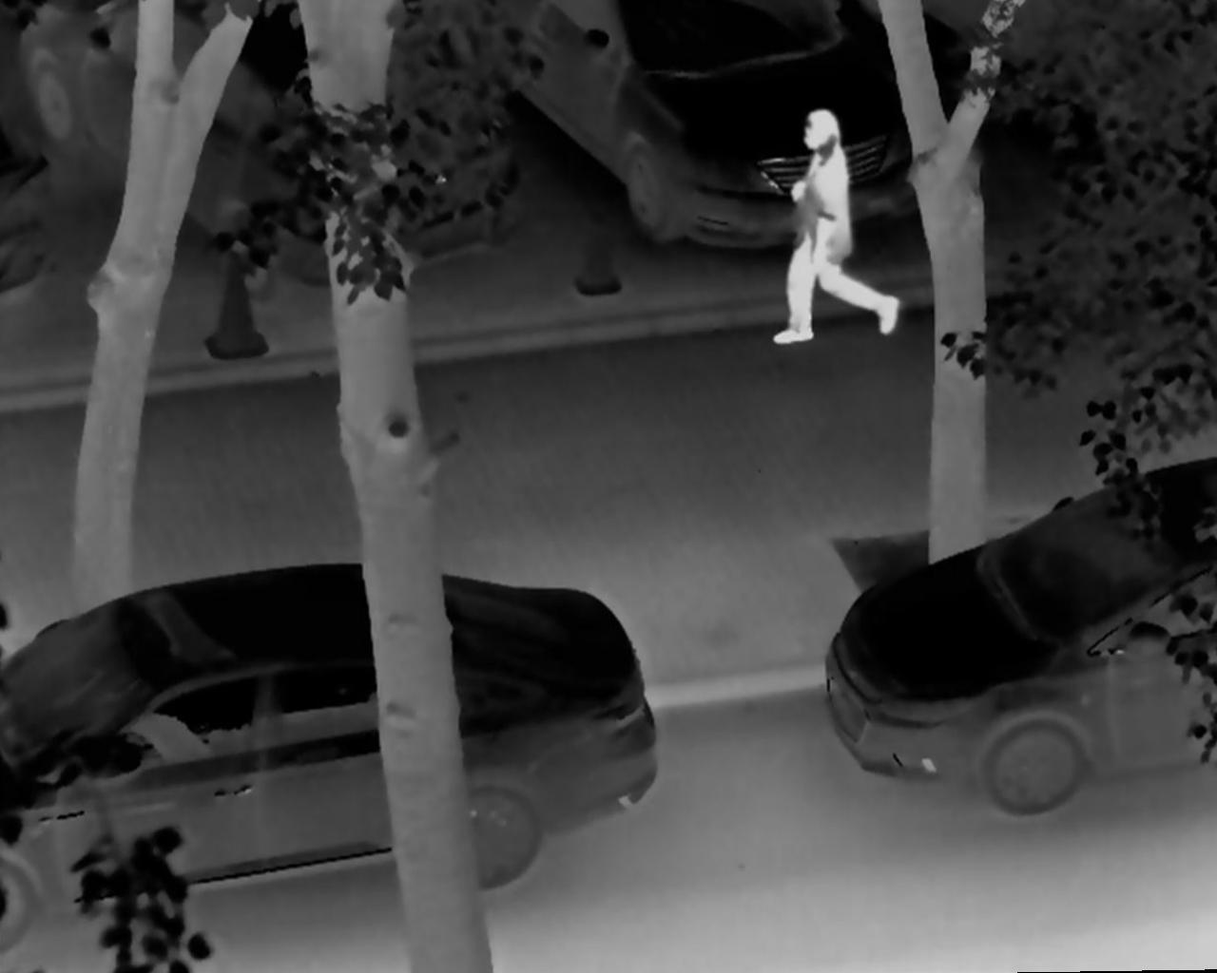person: (769, 105, 898, 350)
